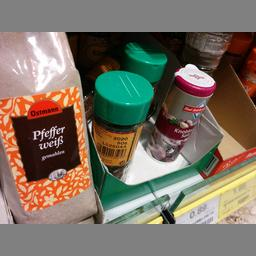spices: (0, 32, 97, 224), (91, 68, 152, 180), (148, 64, 214, 161)
